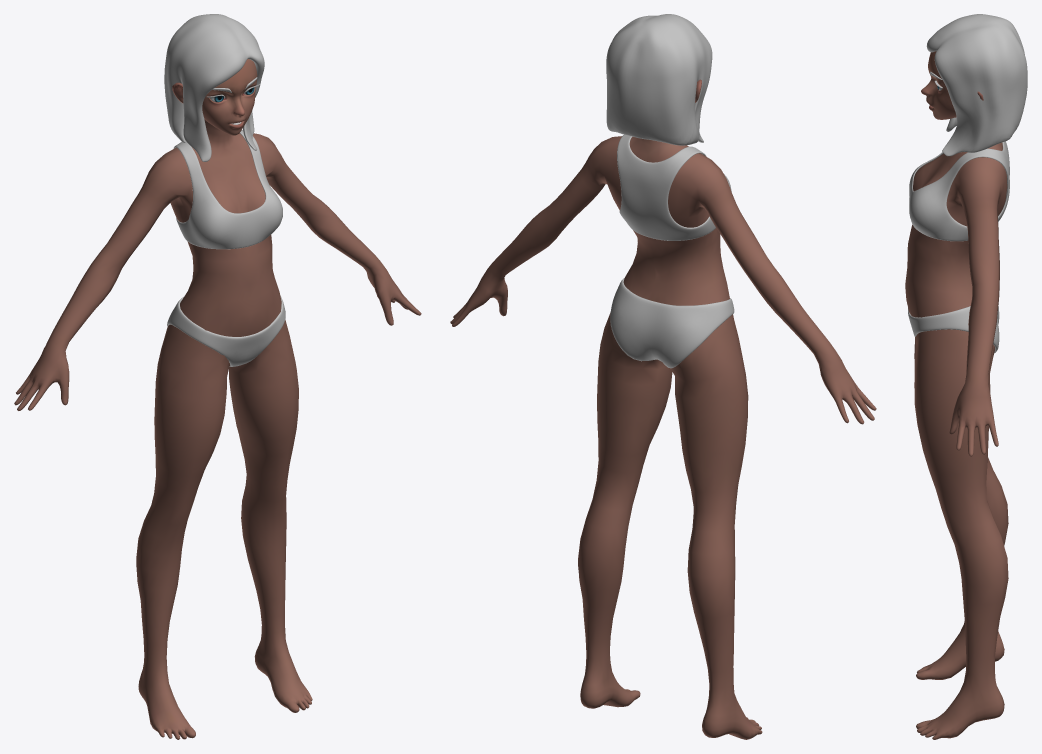
The model's file is Character.fbx.
3 renders of one model, left to right at view 1: azimuth 30°, elevation 25°; view 2: azimuth 150°, elevation 25°; view 3: azimuth 270°, elevation 25°, orthographic. The views are drawn at different scales.
Parts seen in each view (by area): view 1: FemaleStylizedAnimeBasemesh, Hair, Underwear; view 2: FemaleStylizedAnimeBasemesh, Hair, Underwear; view 3: FemaleStylizedAnimeBasemesh, Hair, Underwear.
Part boxes in pixels (bbox=[...]): FemaleStylizedAnimeBasemesh: bbox=[14, 59, 421, 739]; Hair: bbox=[164, 14, 264, 161]; Underwear: bbox=[167, 130, 285, 366]; FemaleStylizedAnimeBasemesh: bbox=[450, 79, 876, 739]; Hair: bbox=[606, 14, 712, 145]; Underwear: bbox=[610, 134, 734, 368]; FemaleStylizedAnimeBasemesh: bbox=[905, 51, 1008, 739]; Hair: bbox=[926, 14, 1027, 156]; Underwear: bbox=[908, 141, 1009, 352].
Bounding box in the file's own units: 111 × 181 × 29.24.
